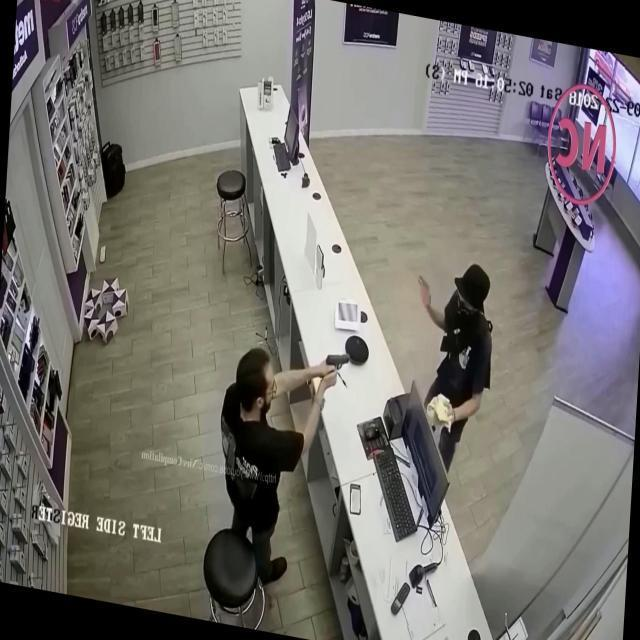pistol: (324, 352, 352, 390)
